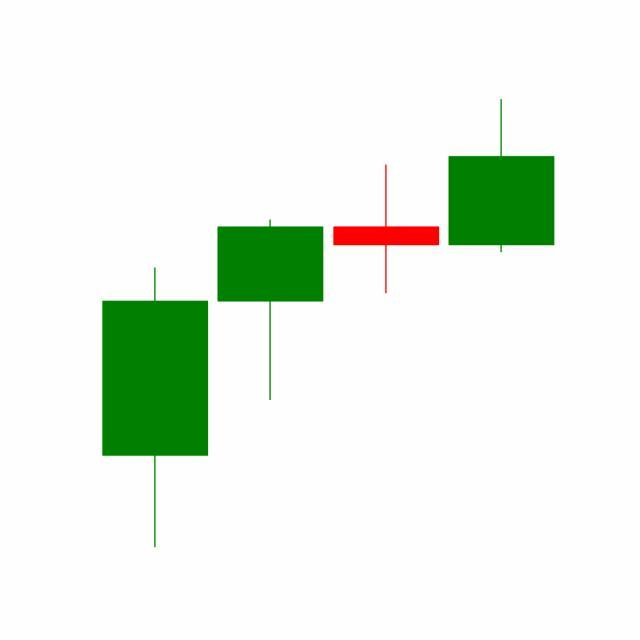Spinning Top: (329, 163, 445, 295)
